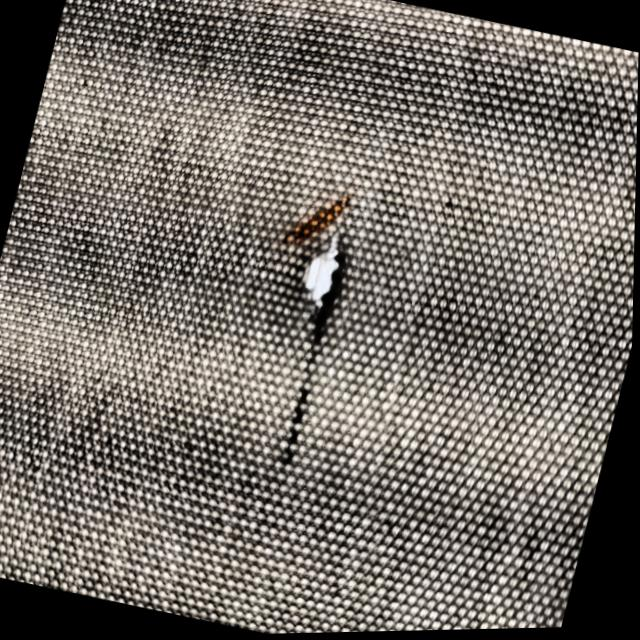Hole: (291, 232, 346, 312)
Stitch: (280, 234, 360, 461)
